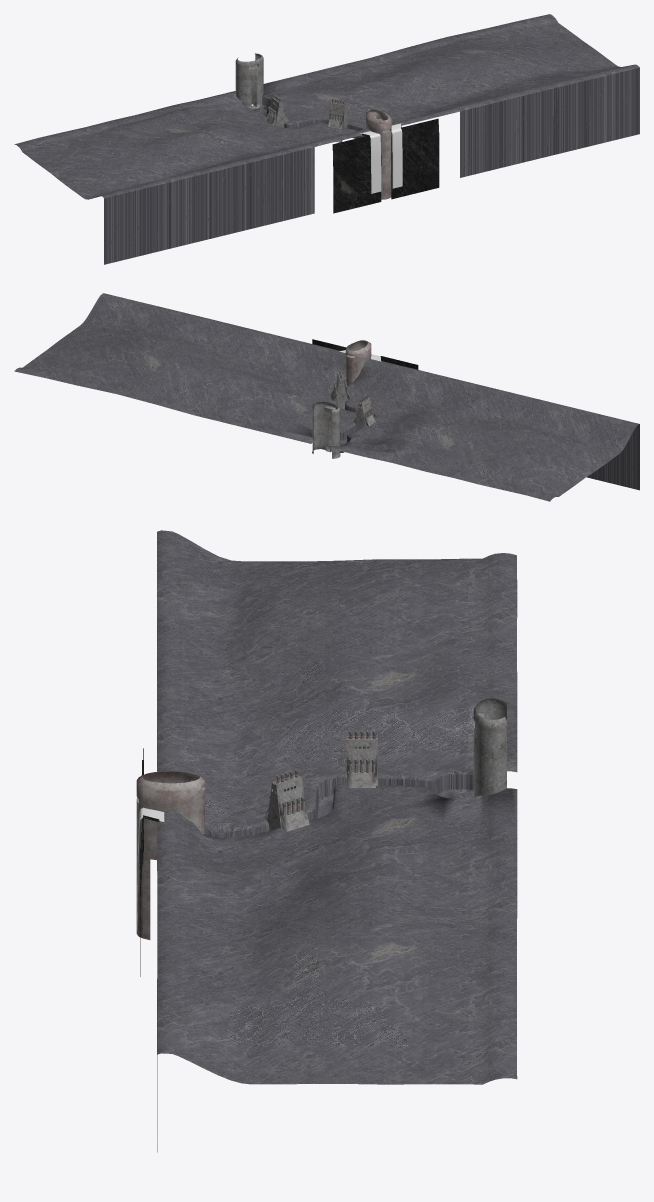
File: Level1_FINALTEXTUREDBUTBETTER.gltf
3 views of the same model, one above another, from view 1: azimuth 30°, elevation 25°; view 2: azimuth 150°, elevation 25°; view 3: azimuth 270°, elevation 25° (orthographic). The views are drawn at different scales.
Parts seen in each view (by area): view 1: LevelTerrain, BasaltCliff, BossTower, WatchTower, WaterfallRight, WaterfallLeft, FirstTower, SecondTower; view 2: LevelTerrain, BossTower, WatchTower, SecondTower, FirstTower, BasaltCliff; view 3: LevelTerrain, WatchTower, BossTower, FirstTower, SecondTower.
Part boxes in pixels (<box>): LevelTerrain: <box>14,14,639,264</box>; BasaltCliff: <box>332,118,439,213</box>; BossTower: <box>235,53,263,108</box>; WatchTower: <box>366,109,391,199</box>; WaterfallRight: <box>391,123,402,188</box>; WaterfallLeft: <box>360,131,381,193</box>; FirstTower: <box>328,98,348,142</box>; SecondTower: <box>265,94,288,127</box>; LevelTerrain: <box>14,293,639,501</box>; BossTower: <box>312,402,340,458</box>; WatchTower: <box>345,340,371,385</box>; SecondTower: <box>353,394,375,430</box>; FirstTower: <box>330,370,350,409</box>; BasaltCliff: <box>312,339,418,369</box>; LevelTerrain: <box>157,530,517,1152</box>; WatchTower: <box>136,770,204,939</box>; BossTower: <box>473,698,506,796</box>; FirstTower: <box>264,768,309,831</box>; SecondTower: <box>346,730,378,787</box>.
Bounding box in the file's own units: 3889 × 627 × 1196.
Materials: 5 (5 with a texture image).
